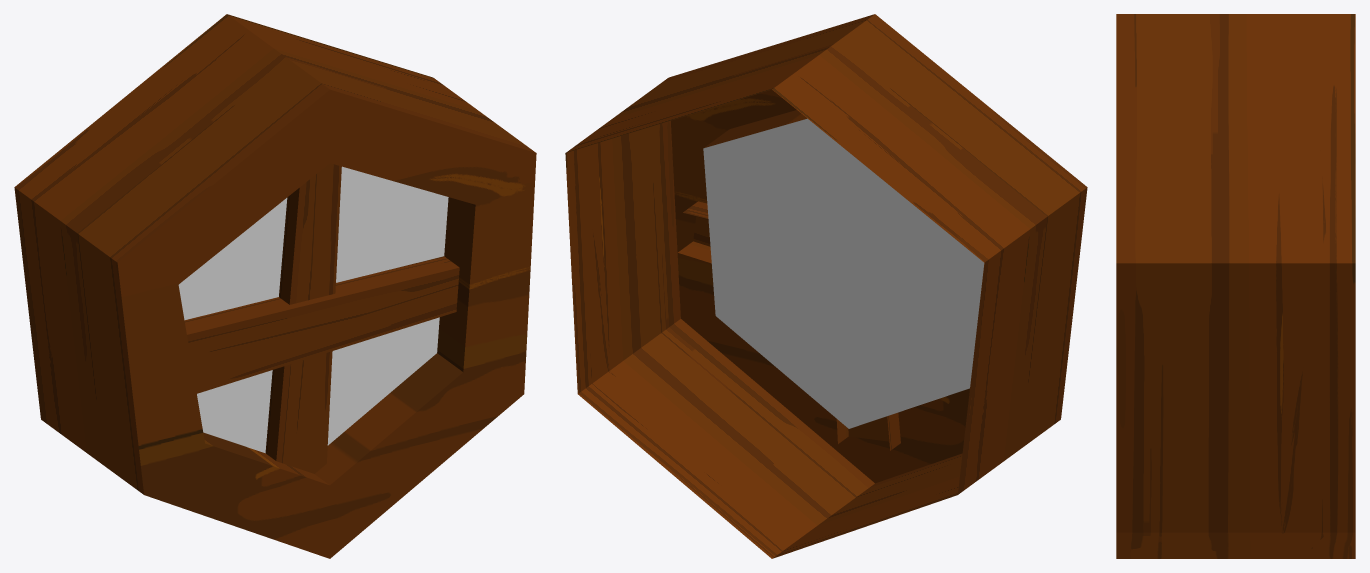
File: SM_BLD_window_v06_02.fbx
3 views of the same model, side by side, from view 1: azimuth 30°, elevation 25°; view 2: azimuth 150°, elevation 25°; view 3: azimuth 270°, elevation 25° (orthographic). The views are drawn at different scales.
Visible parts, largest first — view 1: SM_BLD_window_v06_02; view 2: SM_BLD_window_v06_02; view 3: SM_BLD_window_v06_02.
Part boxes in pixels (x1,y1,x2,y2): SM_BLD_window_v06_02: (14, 14, 536, 558); SM_BLD_window_v06_02: (565, 14, 1087, 558); SM_BLD_window_v06_02: (1116, 14, 1355, 558).
Size of the model in its own units: 121 by 130 by 51.78.
